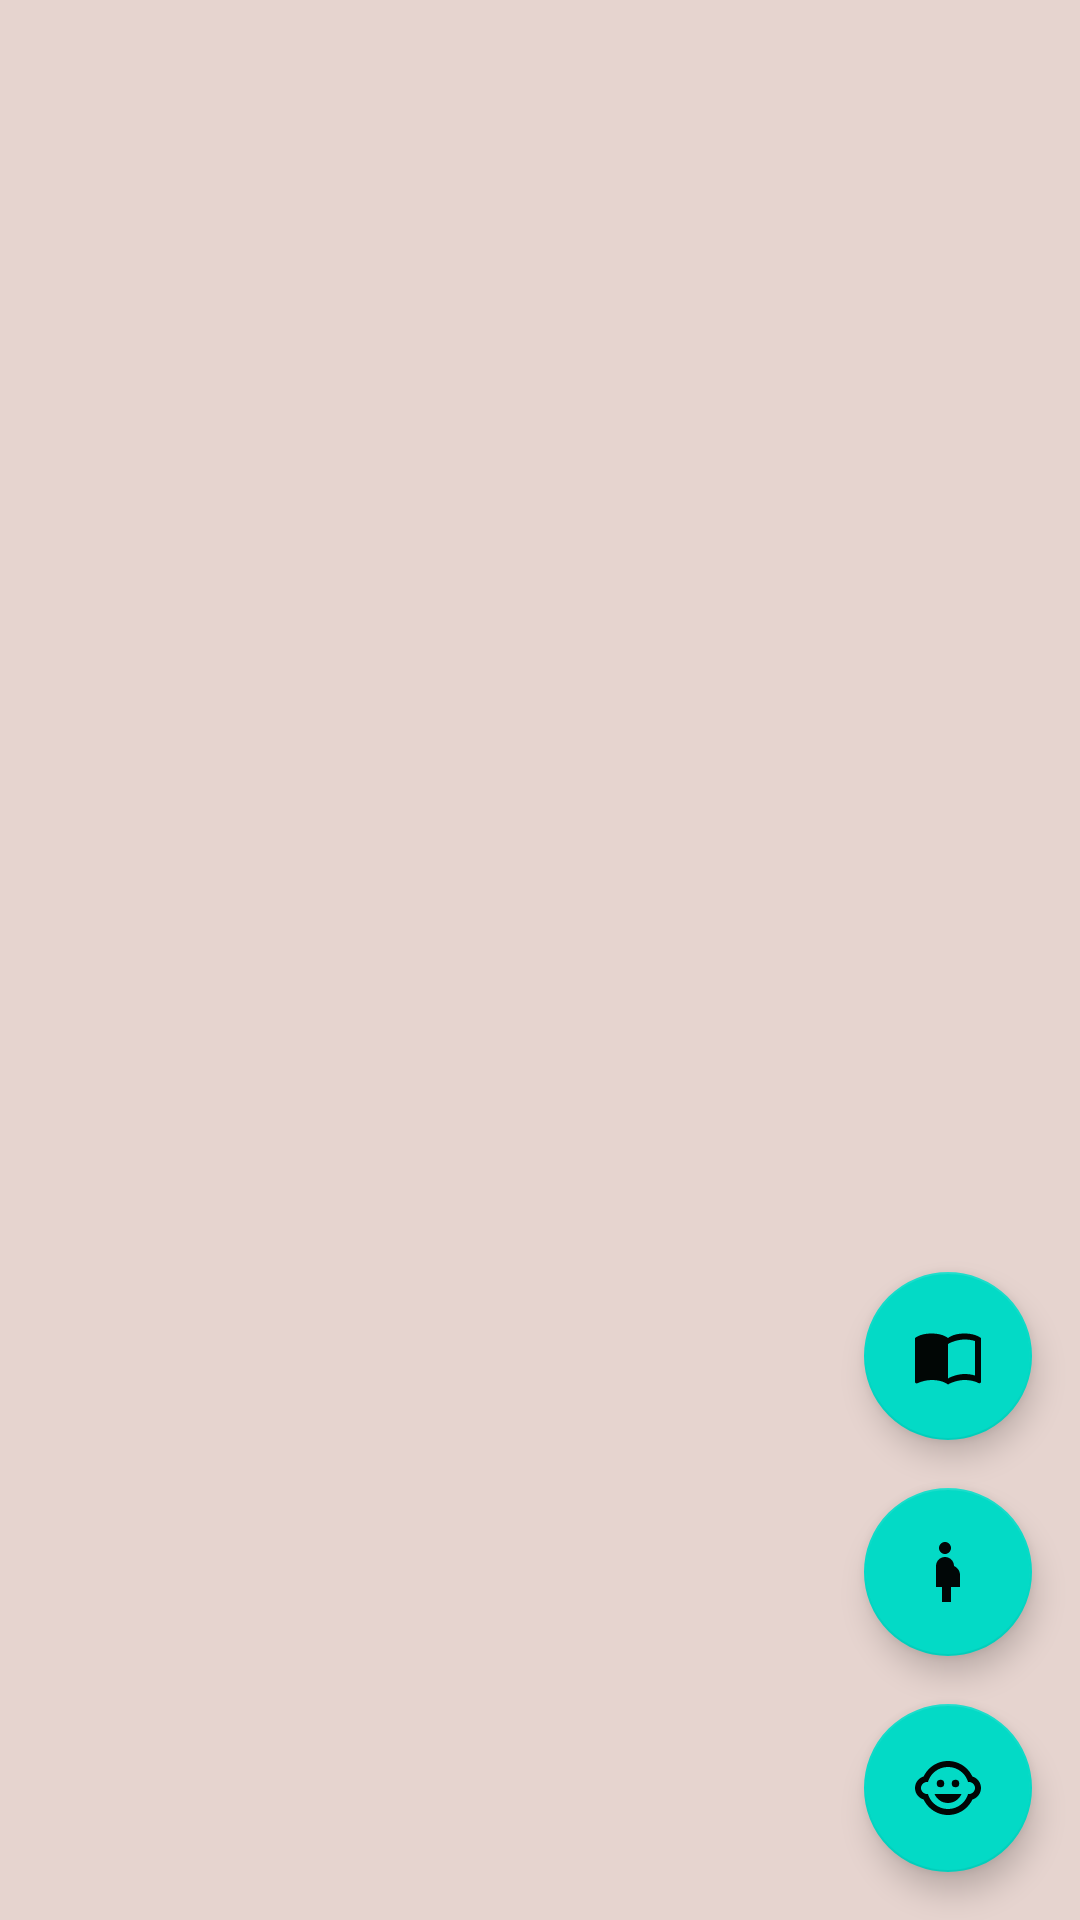

Where icons sit on this 1080 × 1920 app screen, as (x1, y1, x2, y2):
child care: (864, 1704, 1032, 1872)
journal: (864, 1272, 1032, 1440)
pregnant woman: (864, 1488, 1032, 1656)
